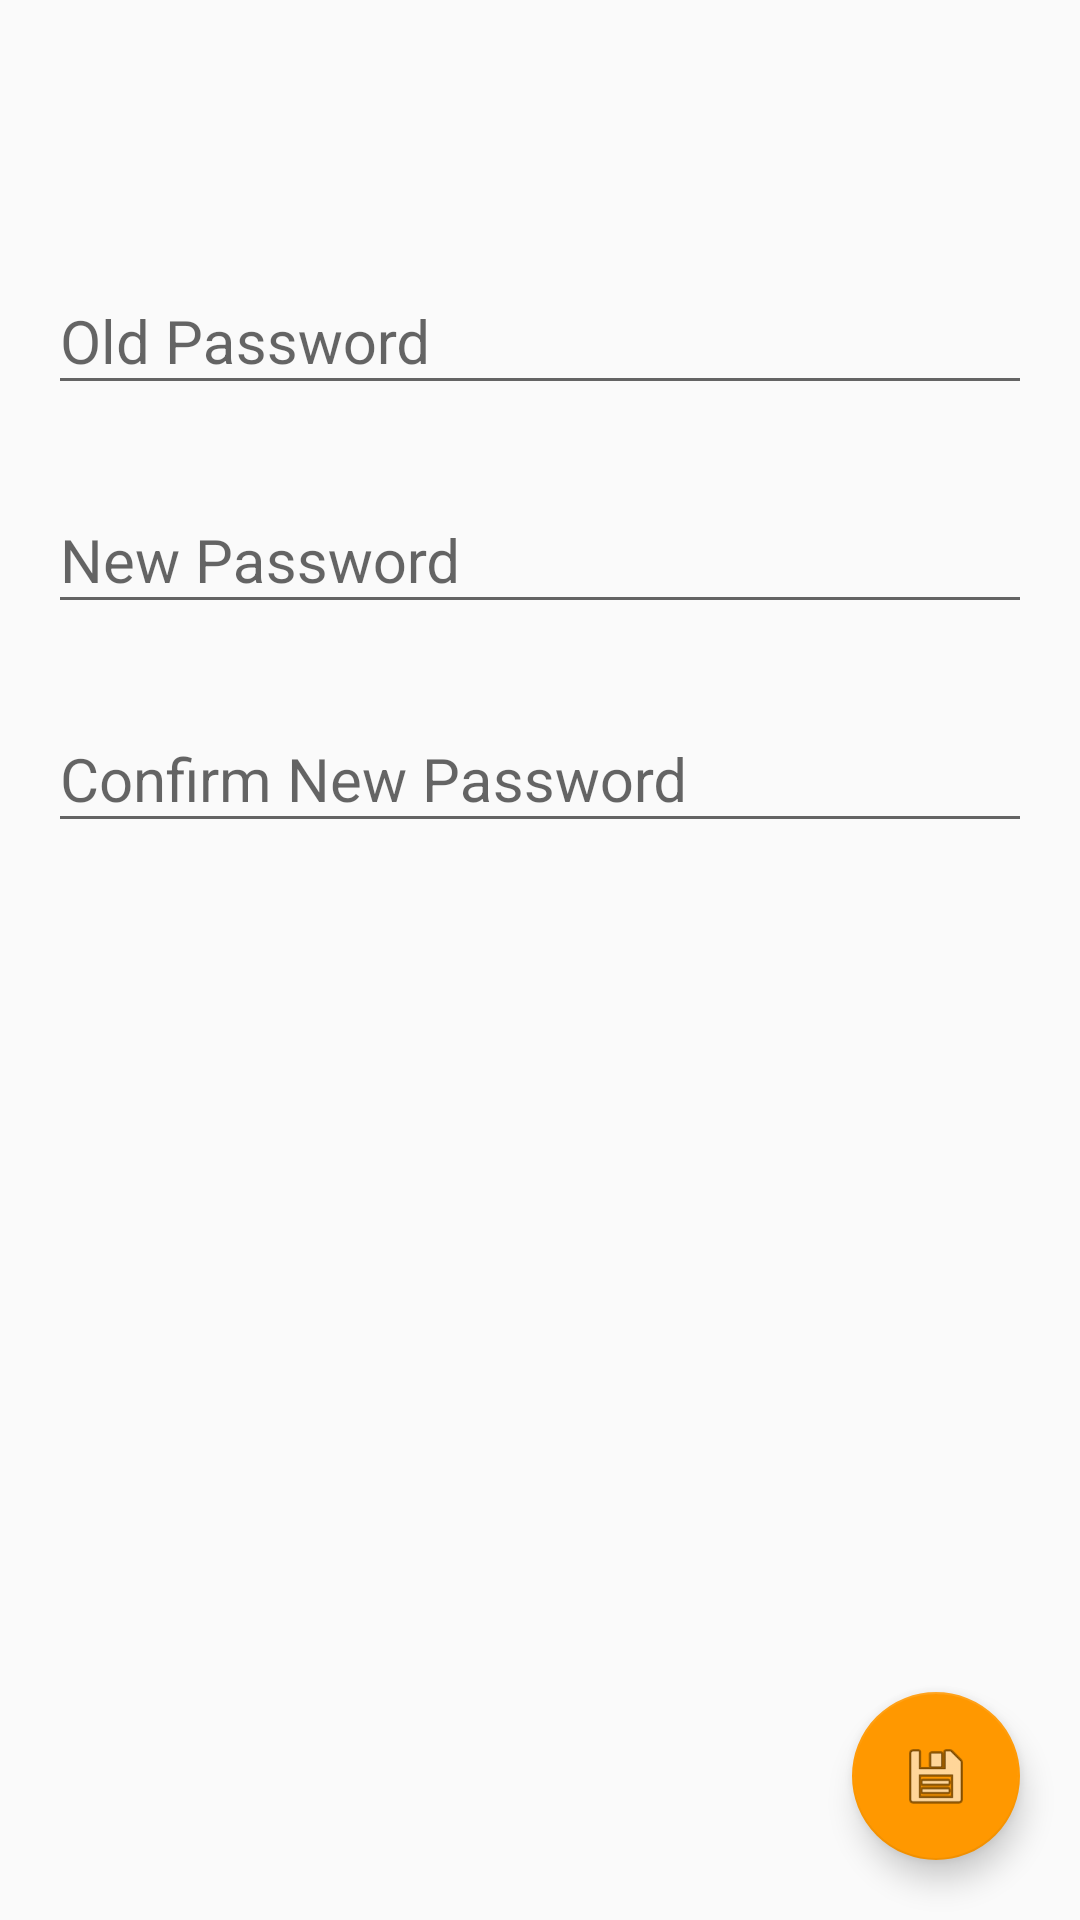

Screen size 1080x1920. Icon name, then its box in pixels as [x1=x1, y1=y1, x2=x2, y2=y2]:
save: [x1=852, y1=1692, x2=1020, y2=1860]
